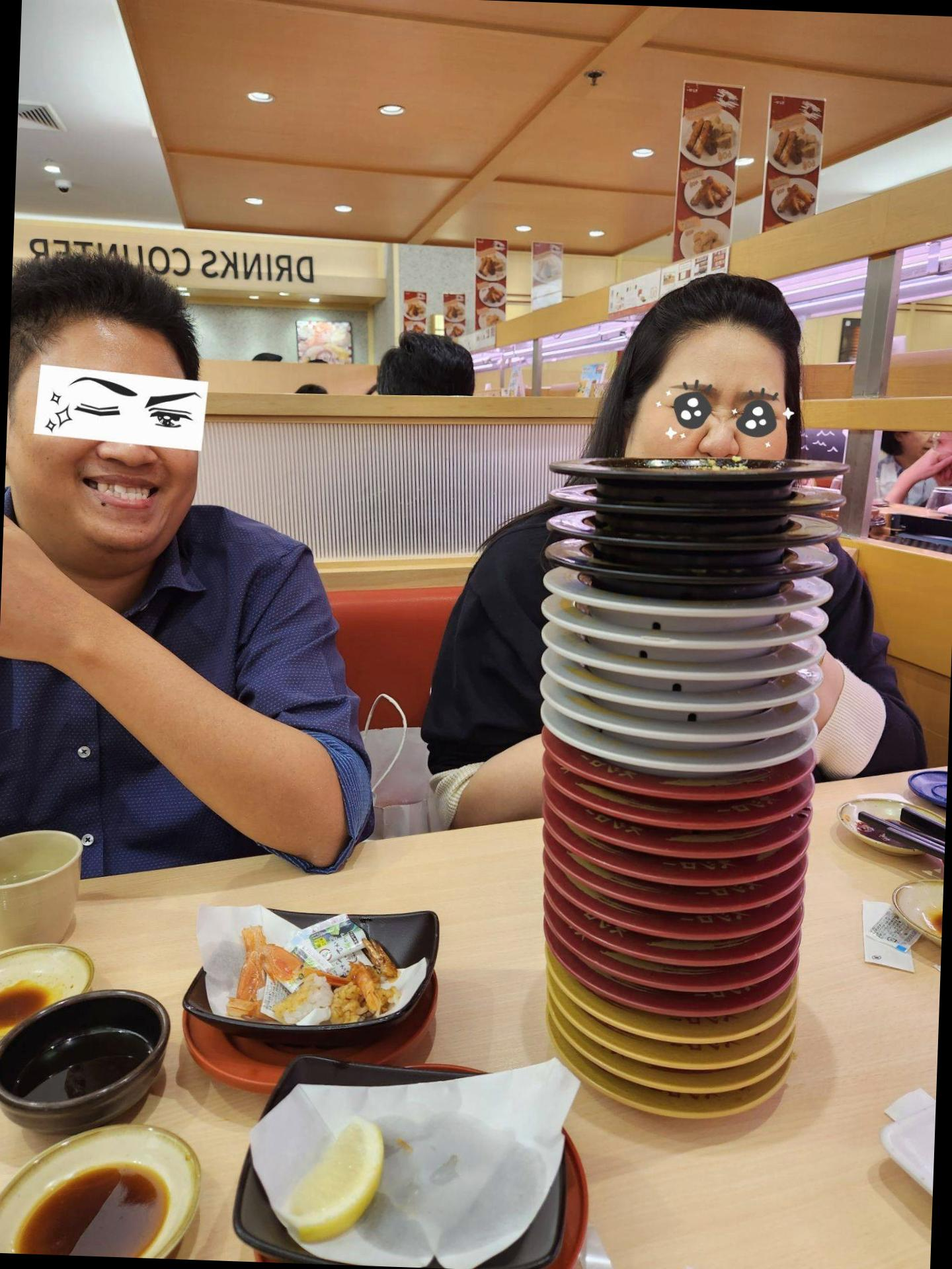Janback: (541, 536, 829, 584), (547, 509, 831, 548), (545, 482, 832, 518), (545, 451, 838, 486)
Jangold: (585, 1008, 772, 1043), (599, 1065, 770, 1093), (617, 1094, 756, 1123), (605, 1045, 774, 1066)
Janred: (548, 769, 806, 801), (577, 796, 798, 826), (579, 827, 782, 858), (594, 858, 781, 887), (594, 942, 760, 968), (589, 913, 757, 937), (604, 892, 773, 915), (607, 990, 759, 1012), (616, 968, 743, 992)
Janwhite: (559, 595, 811, 633), (579, 628, 797, 662), (576, 714, 768, 743), (592, 663, 787, 691), (591, 740, 768, 767), (595, 692, 780, 717)
